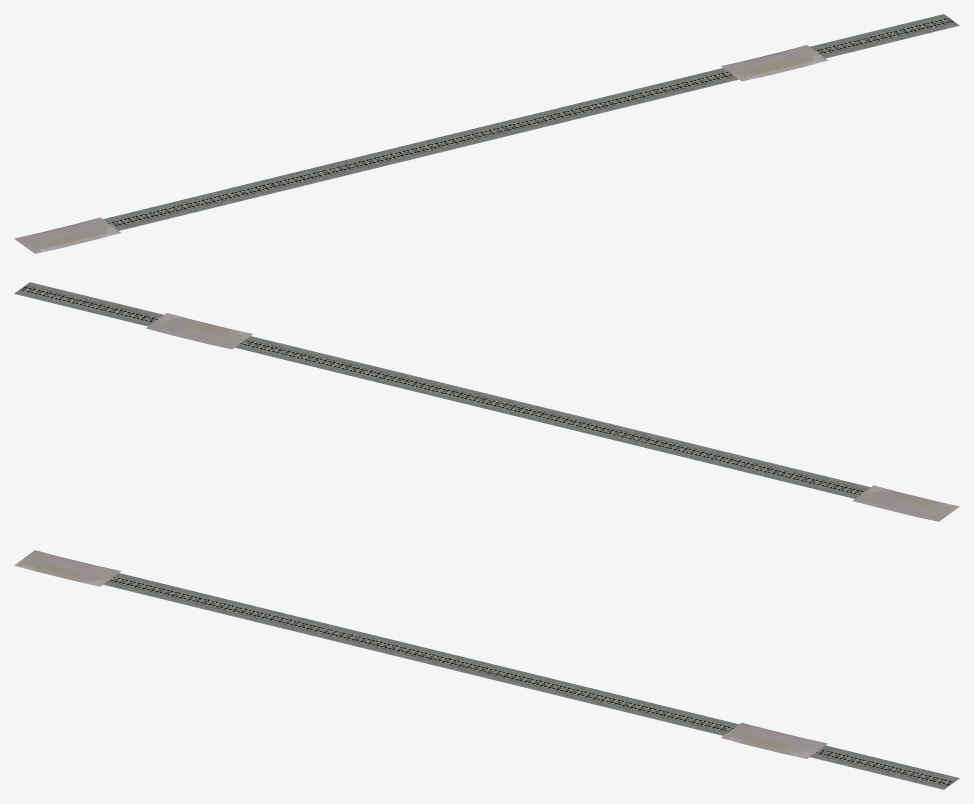
File: lodaswrailroad06.obj
The picture shows the model from 3 angles, top to bottom: view 1: azimuth 30°, elevation 25°; view 2: azimuth 150°, elevation 25°; view 3: azimuth 330°, elevation 25°; orthographic projection.
Parts seen in each view (by area): view 1: lodaswrailroad06; view 2: lodaswrailroad06; view 3: lodaswrailroad06.
Part boxes in pixels (x1,y1,x2,y2): lodaswrailroad06: (14,14,959,253); lodaswrailroad06: (14,282,959,521); lodaswrailroad06: (14,550,959,789).
Size of the model in its own units: 236 by 0.3434 by 9.44.
2 materials, 2 textured.
